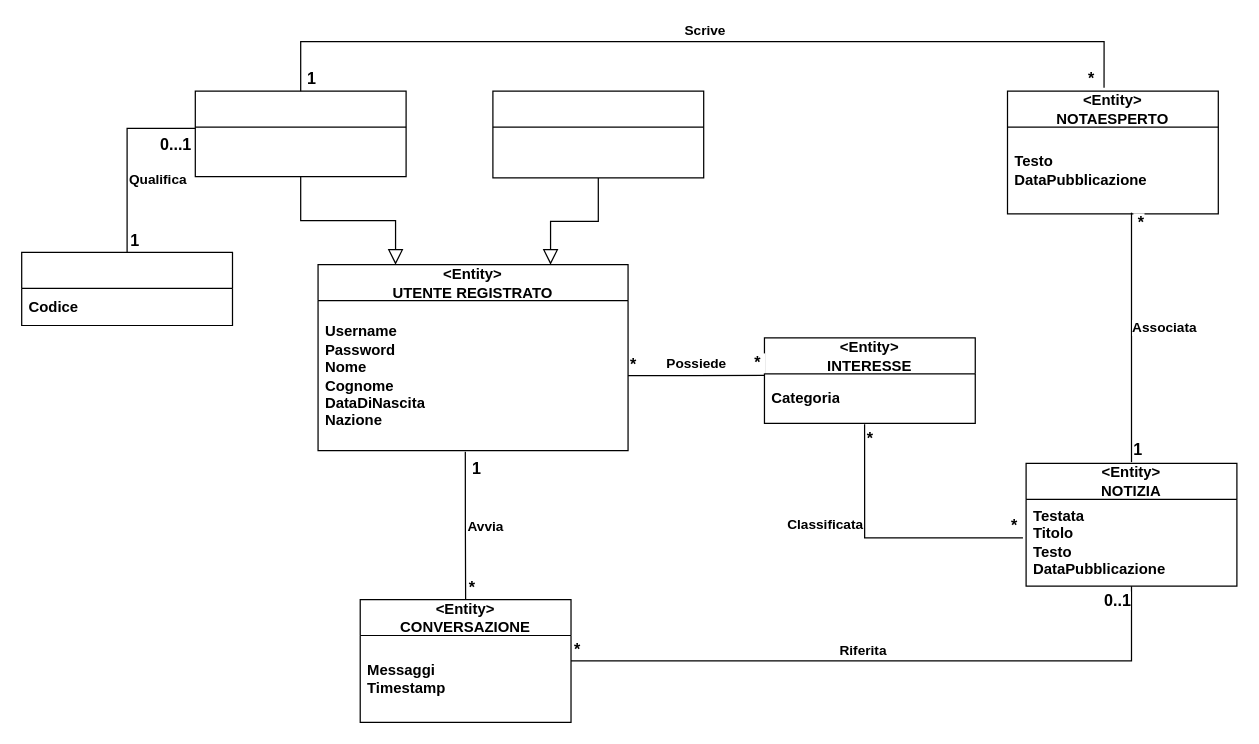
The diagram is 1259 pixels wide and 744 high, and some of its shapes have lost their labels. The box of each missing label's shape, as (x1, y1, x2, y2) in pixels:
<Entity> ESPERTO: (194, 90, 406, 177)
<Entity> LETTORE: (492, 90, 704, 178)
<Entity> TOKENCONVALIDA: (20, 251, 232, 326)
